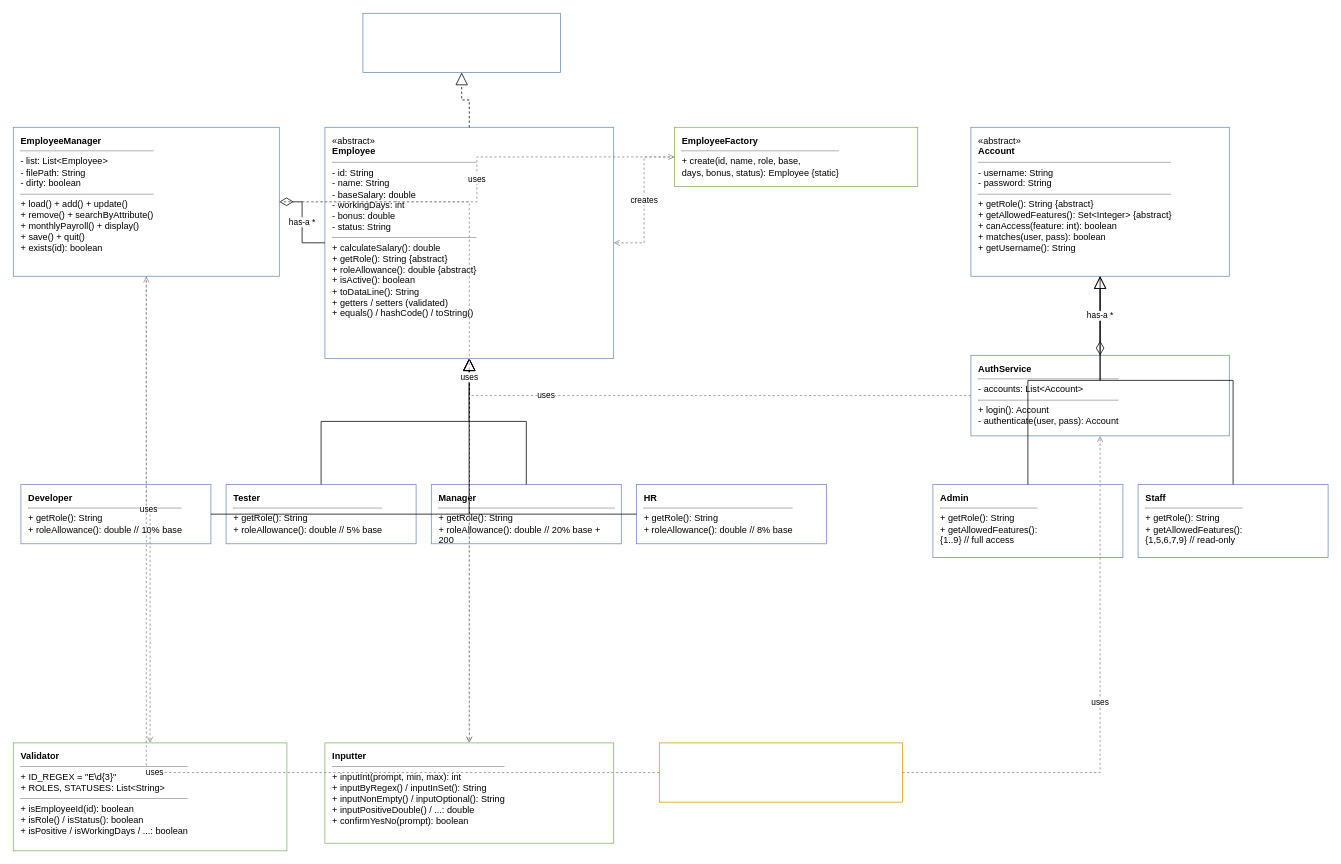
Image size: 1341x864. Some labels were removed from this diagram. Each missing label, with the centre of its shape:
Main + main(args: String[]): void {static} - showMenu(user: Account): void: pixel 780 772
«interface» Payable + calculateSalary(): double: pixel 461 43
